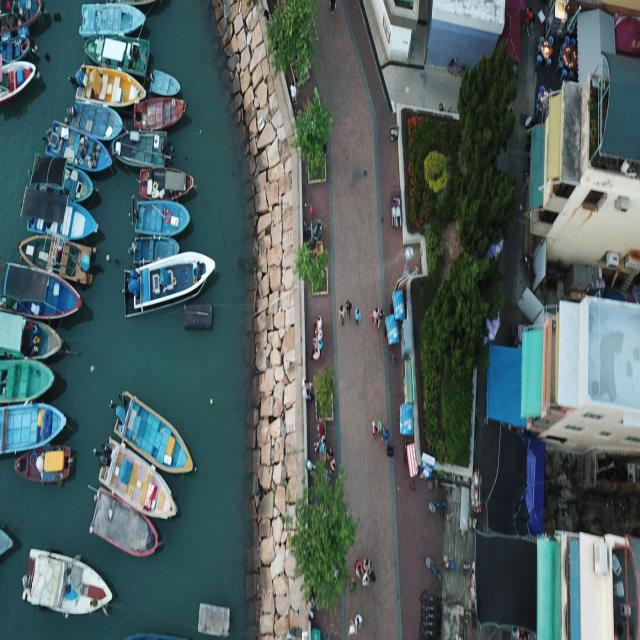tree: (406, 38, 519, 477), (263, 0, 319, 89), (290, 86, 333, 180)
